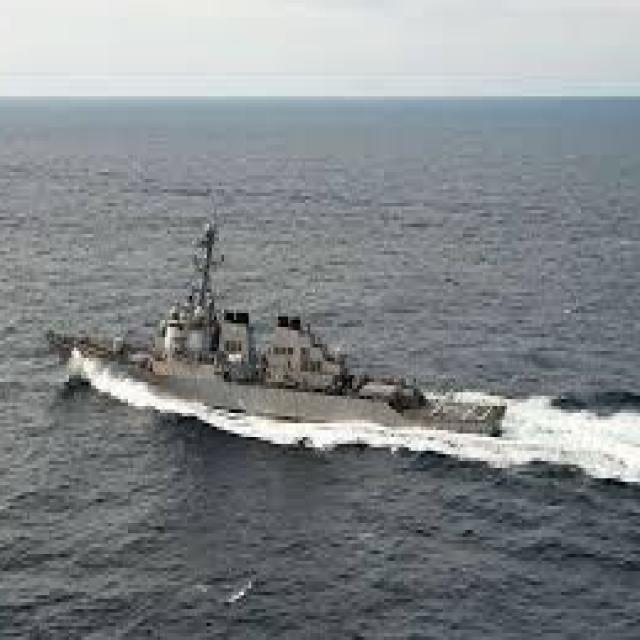navalvessels: (43, 161, 538, 429)
